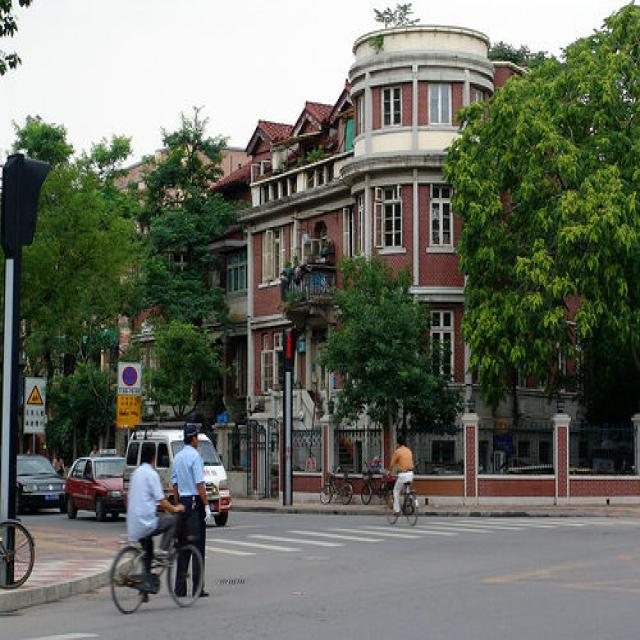Vehicle: (126, 423, 232, 528), (69, 451, 133, 517), (17, 456, 67, 515)
